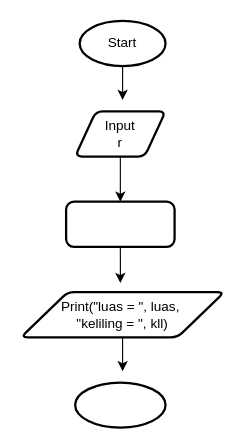
Image size: 244x447. Some labels were removed from this diagram. Here are the shapes that lost their labels. From the top down, the centre of each, then its label:
At (x=119, y=223): "luas = 3.14 * r**2 kll = 2 * 3.14 * r".
At (x=119, y=404): "End".
